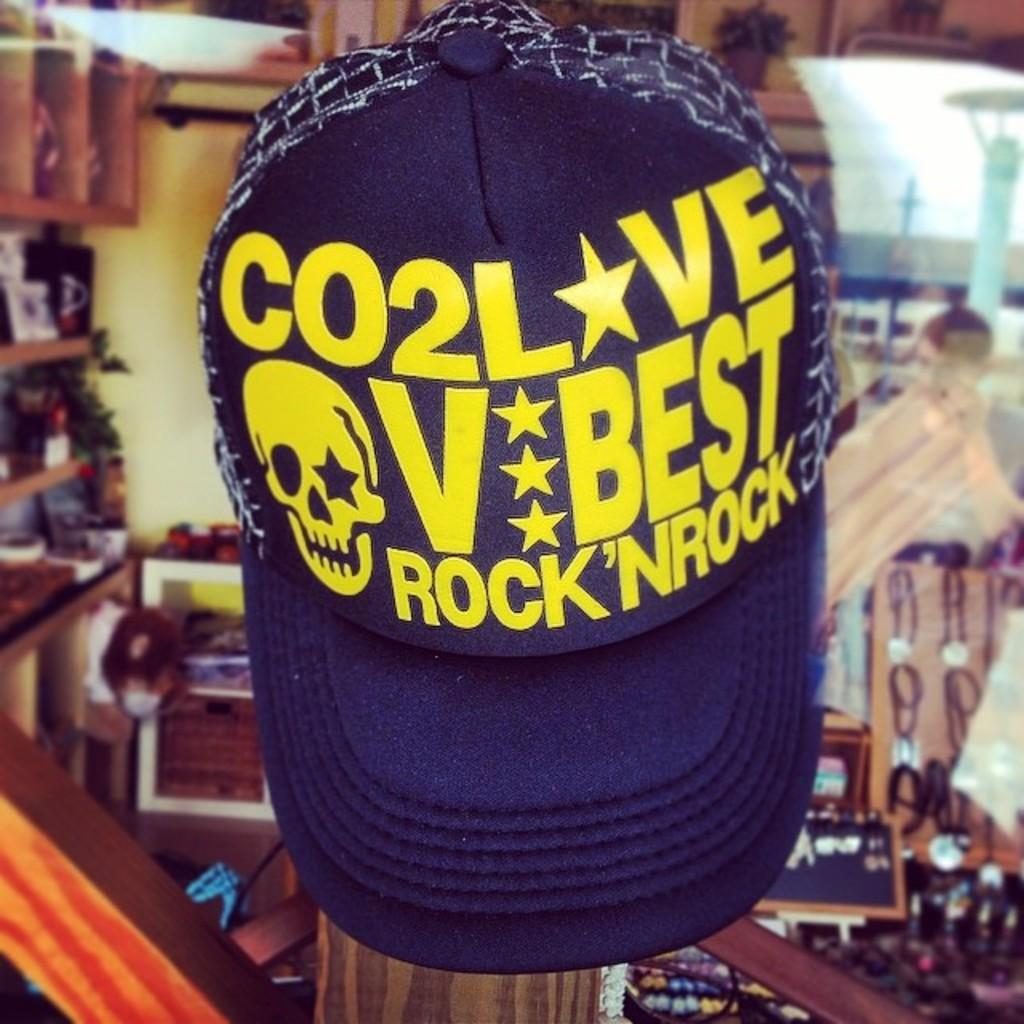Hat: (194, 0, 822, 976)
